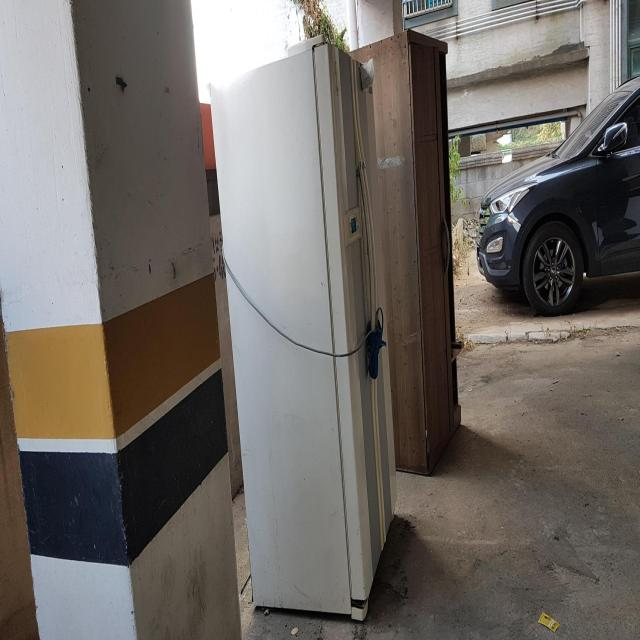refrigerator: (207, 37, 398, 623)
